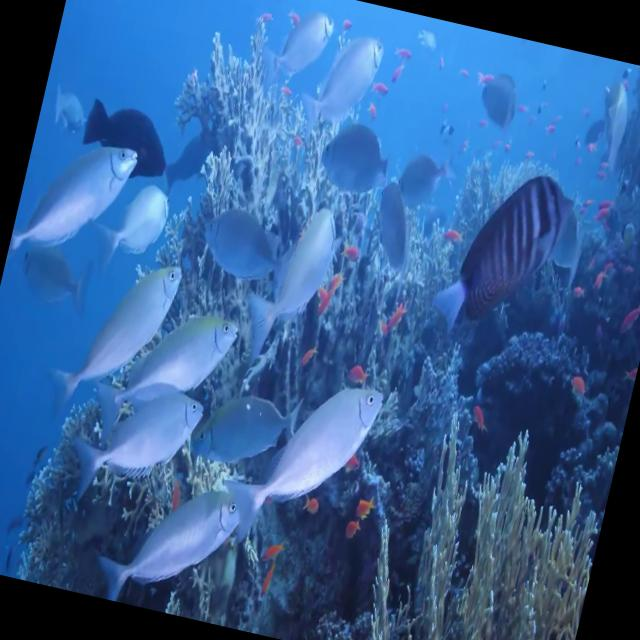fish: (412, 140, 584, 350), (220, 354, 395, 560), (39, 222, 198, 436), (82, 273, 254, 469), (86, 459, 256, 626), (222, 176, 354, 390), (55, 362, 219, 534), (5, 108, 150, 287), (176, 364, 318, 491), (62, 79, 188, 201), (294, 12, 396, 147), (184, 189, 298, 303), (301, 106, 398, 214), (86, 165, 180, 276), (250, 0, 341, 105), (146, 94, 230, 203), (351, 168, 432, 276), (468, 45, 542, 136), (580, 69, 640, 179), (382, 133, 452, 220), (43, 58, 100, 144), (609, 283, 640, 345), (342, 352, 377, 396), (296, 492, 328, 528), (252, 558, 278, 602), (258, 532, 284, 573), (588, 258, 616, 296), (348, 494, 379, 524), (566, 268, 590, 306), (340, 512, 365, 544), (384, 302, 406, 335)
